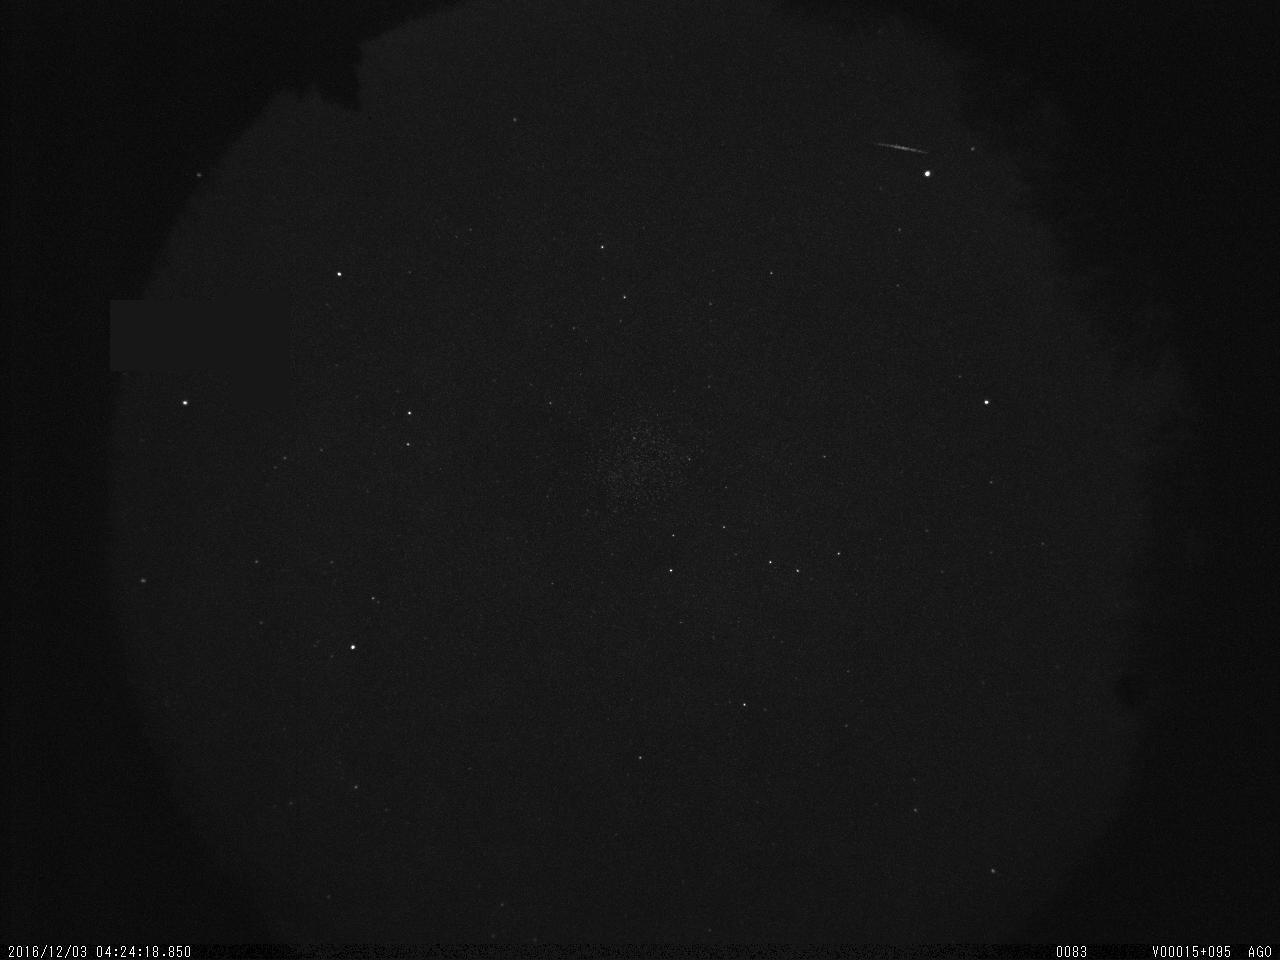meteor: (863, 130, 940, 163)
